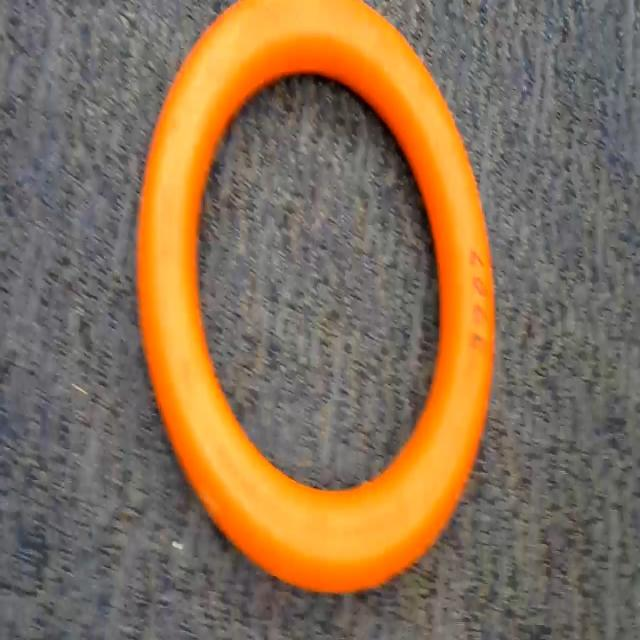note: (129, 6, 504, 594)
